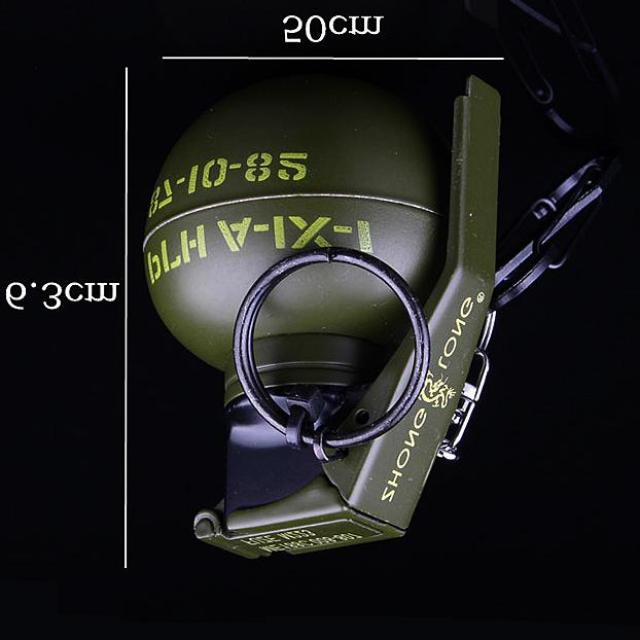grenade: (143, 65, 503, 560)
